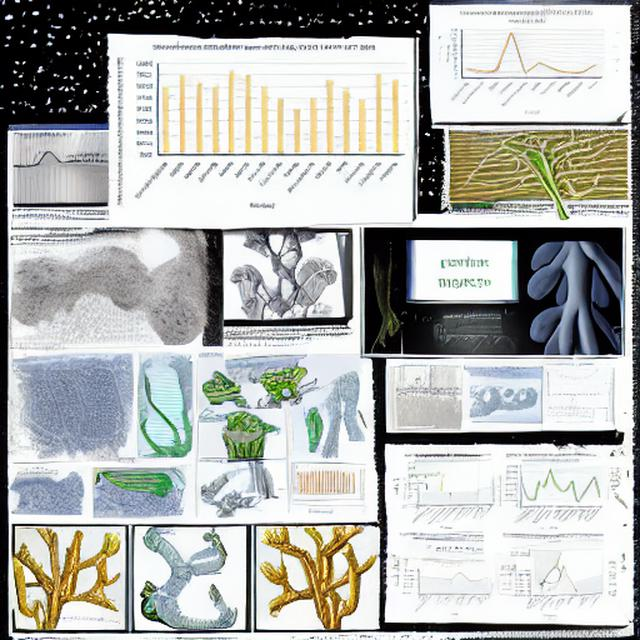Graph: (111, 41, 409, 217), (441, 6, 605, 116), (495, 452, 607, 532), (409, 557, 492, 617), (435, 311, 507, 355), (291, 463, 356, 499), (542, 363, 599, 400)
